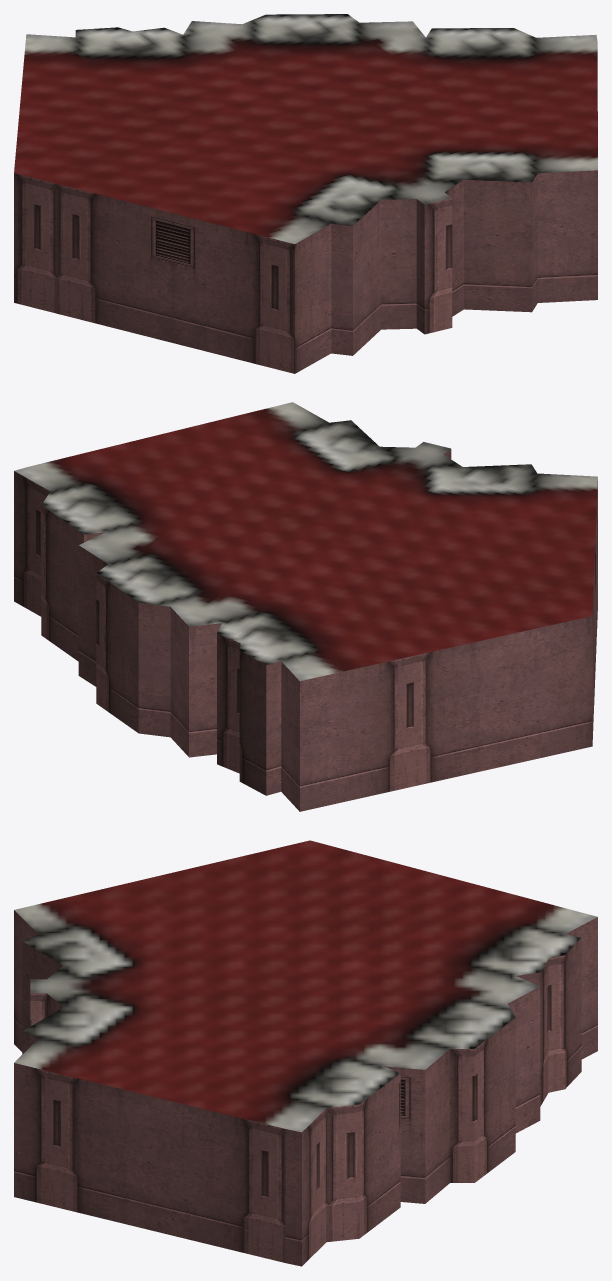
Rendered from hardened_roof52.glb.
3 views of the same model, one above another, from view 1: azimuth 30°, elevation 25°; view 2: azimuth 150°, elevation 25°; view 3: azimuth 270°, elevation 25° (orthographic). The views are drawn at different scales.
Visible parts, largest first — view 1: buildings/saxarba/hard/hardened_roof52; view 2: buildings/saxarba/hard/hardened_roof52; view 3: buildings/saxarba/hard/hardened_roof52.
Boxes of the visible parts, x1=… form: buildings/saxarba/hard/hardened_roof52: x1=14, y1=14, x2=597, y2=373; buildings/saxarba/hard/hardened_roof52: x1=14, y1=402, x2=597, y2=811; buildings/saxarba/hard/hardened_roof52: x1=14, y1=840, x2=597, y2=1266.
Size of the model in its own units: 84 by 18 by 71.
